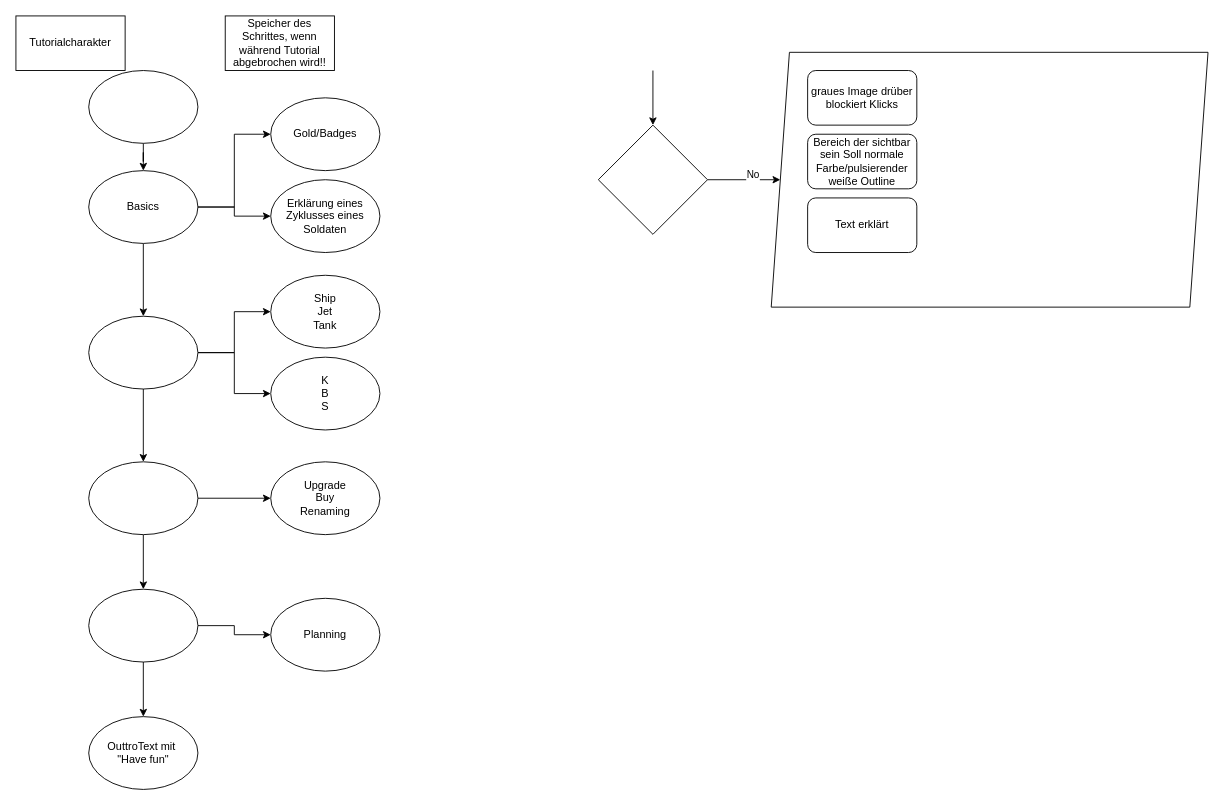
This 1224x805 diagram has some shape labels left out. The box of each missing label's shape, as (x1, y1, x2, y2) in pixels:
Click Required?: (597, 124, 708, 234)
Events: (88, 588, 198, 662)
Introtext: (88, 70, 198, 143)
Soldiers: (88, 461, 198, 535)
Upgrademglkeit: (88, 315, 198, 389)
